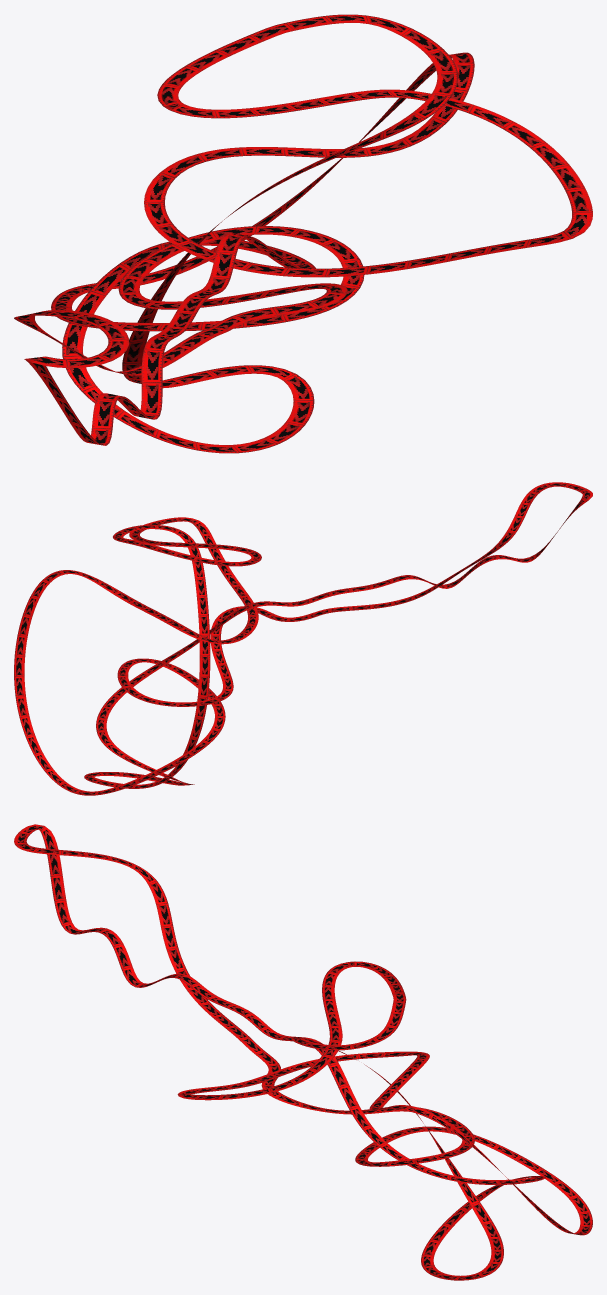
The model's file is Route01.obj.
3 renders of one model, top to bottom at view 1: azimuth 30°, elevation 25°; view 2: azimuth 150°, elevation 25°; view 3: azimuth 270°, elevation 25°, orthographic. The views are drawn at different scales.
Visible parts, largest first — view 1: Track1; view 2: Track1; view 3: Track1.
Part boxes in pixels (<box>): Track1: <box>14,14,592,453</box>; Track1: <box>14,482,592,795</box>; Track1: <box>14,824,592,1280</box>.
Bounding box in the file's own units: 846 × 480 × 912.
1 material, 1 textured.
